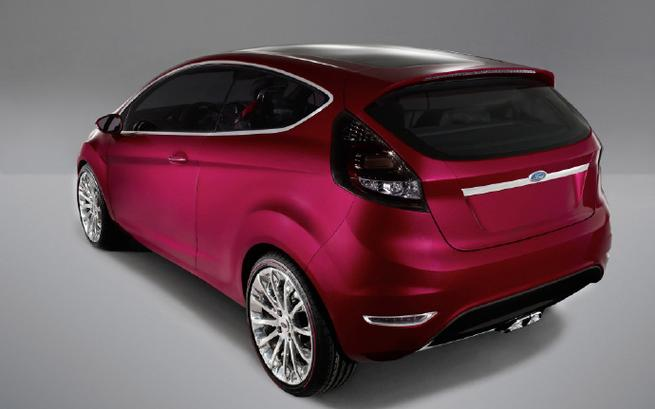汽车: (55, 33, 628, 401)
